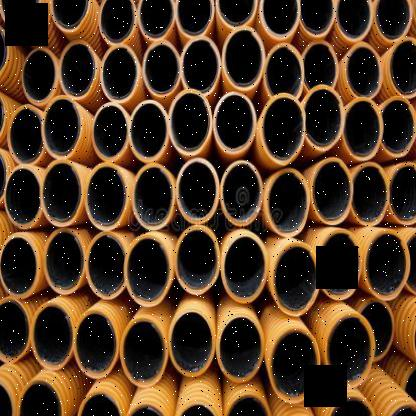pipe: (268, 328, 321, 403), (326, 313, 376, 389), (273, 242, 320, 316), (259, 92, 306, 165), (124, 234, 171, 307), (221, 233, 269, 303), (216, 313, 264, 383), (120, 317, 168, 387), (72, 310, 119, 380), (318, 228, 363, 301), (364, 230, 410, 300), (174, 227, 221, 295), (169, 308, 215, 377), (167, 89, 213, 155), (266, 168, 310, 237), (176, 158, 220, 225), (42, 228, 86, 295), (30, 302, 74, 369), (85, 231, 127, 300), (302, 84, 345, 151), (221, 160, 264, 227), (131, 163, 174, 230), (84, 163, 127, 230), (311, 157, 353, 225), (40, 159, 82, 227), (222, 26, 265, 91), (342, 96, 384, 160), (0, 232, 40, 298), (41, 95, 82, 159), (128, 99, 169, 163), (214, 92, 256, 154), (3, 165, 42, 230), (180, 36, 222, 96), (351, 162, 390, 226), (99, 44, 140, 103), (58, 39, 97, 99), (358, 299, 395, 362), (264, 42, 304, 100), (142, 39, 181, 96), (91, 102, 128, 162), (7, 105, 44, 165), (380, 96, 416, 157), (22, 47, 58, 105), (346, 42, 383, 98), (302, 40, 339, 92), (0, 296, 29, 362), (387, 161, 416, 225), (16, 377, 63, 416), (97, 0, 137, 45), (258, 0, 300, 41), (389, 36, 416, 97), (136, 0, 174, 41), (374, 0, 412, 41), (336, 0, 373, 42), (174, 0, 215, 37), (298, 0, 336, 37), (49, 0, 89, 33), (0, 0, 41, 32), (397, 230, 416, 296), (75, 391, 125, 416), (215, 0, 257, 28), (225, 395, 273, 416), (326, 397, 376, 416), (174, 404, 220, 416), (0, 381, 14, 416), (121, 406, 168, 416), (385, 404, 416, 416)
